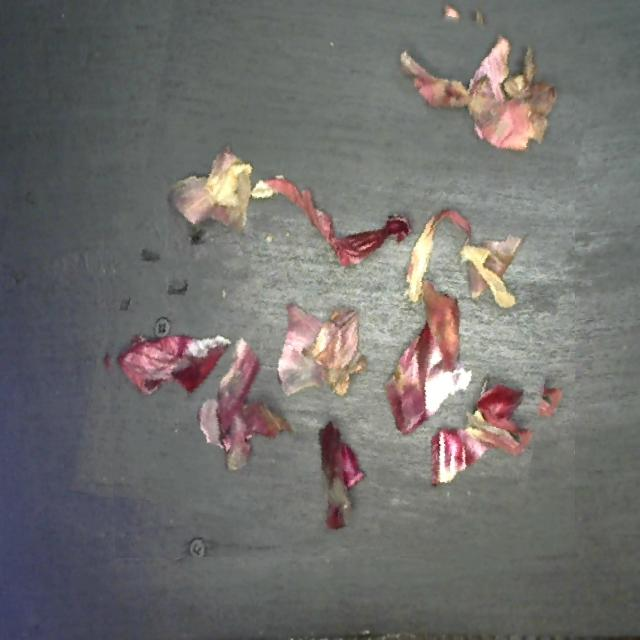biodegradable: (95, 0, 575, 558)
